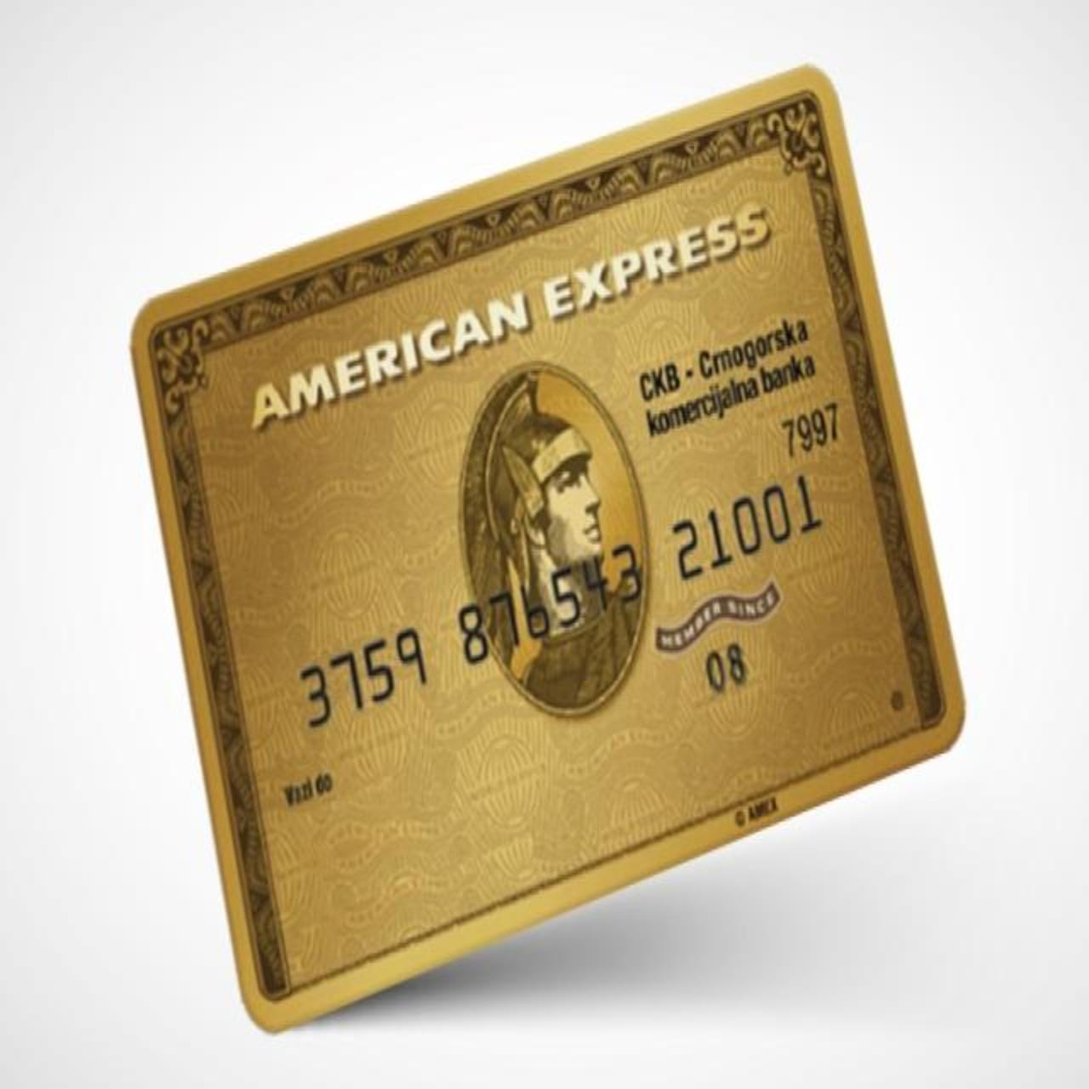credit_card: (163, 65, 970, 1031)
